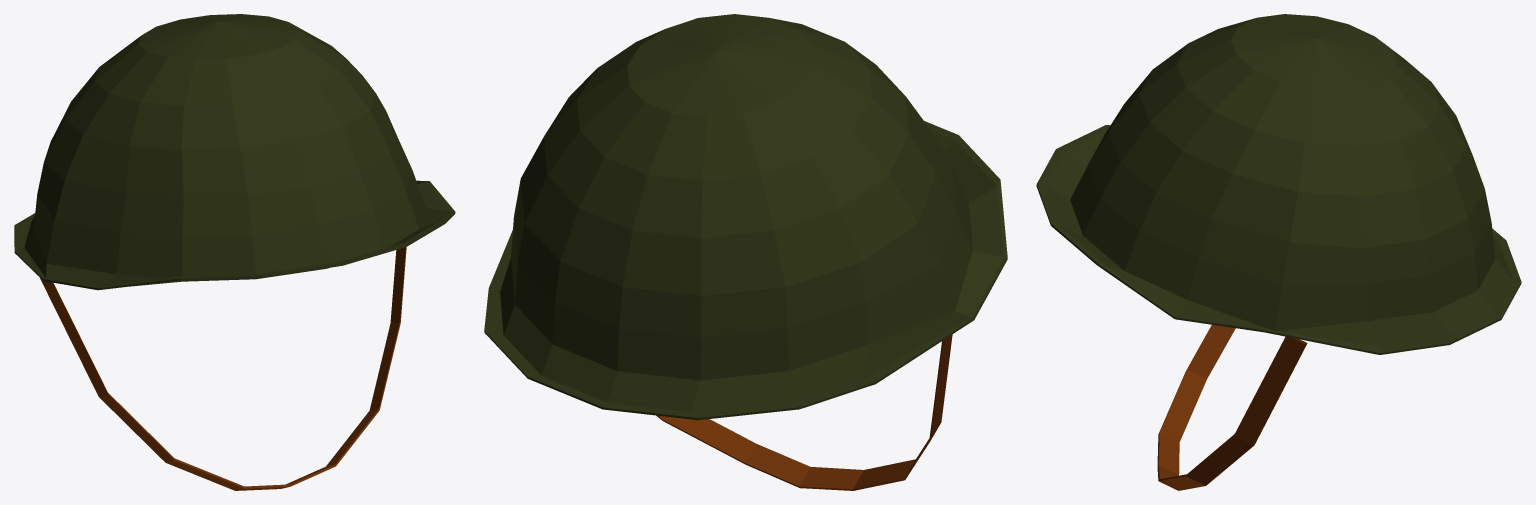
File: military_helmet_asset.fbx
3 views of the same model, side by side, from view 1: azimuth 30°, elevation 25°; view 2: azimuth 150°, elevation 25°; view 3: azimuth 270°, elevation 25° (orthographic). The views are drawn at different scales.
Parts seen in each view (by area): view 1: Helmet, Strap; view 2: Helmet, Strap; view 3: Helmet, Strap.
Boxes of the visible parts, x1=… form: Helmet: x1=14, y1=14, x2=455, y2=290; Strap: x1=39, y1=247, x2=406, y2=490; Helmet: x1=484, y1=14, x2=1007, y2=420; Strap: x1=656, y1=334, x2=952, y2=490; Helmet: x1=1036, y1=14, x2=1521, y2=354; Strap: x1=1157, y1=324, x2=1307, y2=490.
Size of the model in its own units: 210 by 220 by 220.
